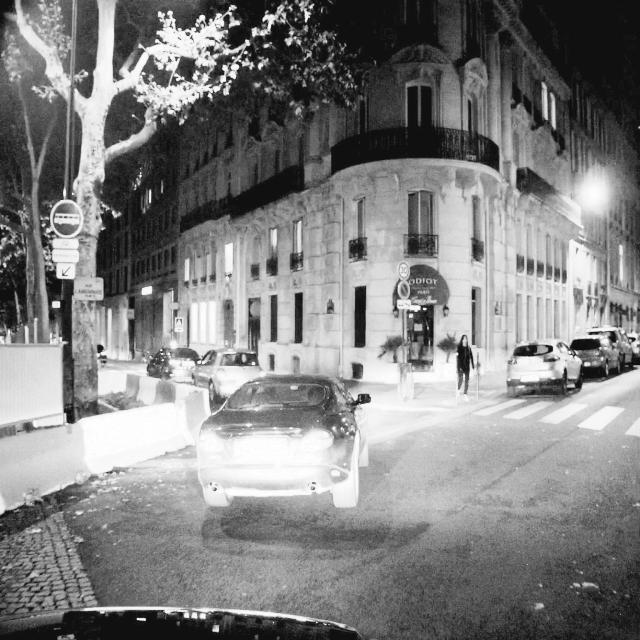Sign: (50, 200, 83, 278), (74, 276, 104, 300)
Tree: (58, 0, 130, 432)
